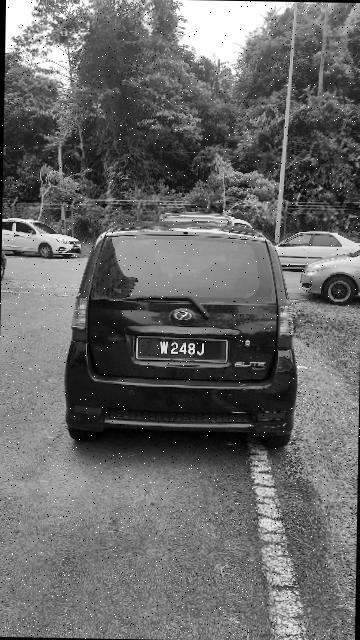License_Plate: (129, 329, 233, 373)
car: (63, 225, 304, 455)
